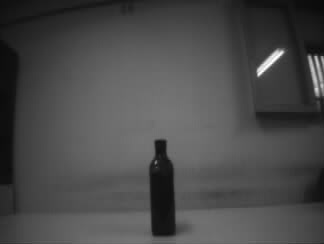Bottle: (147, 137, 176, 236)
